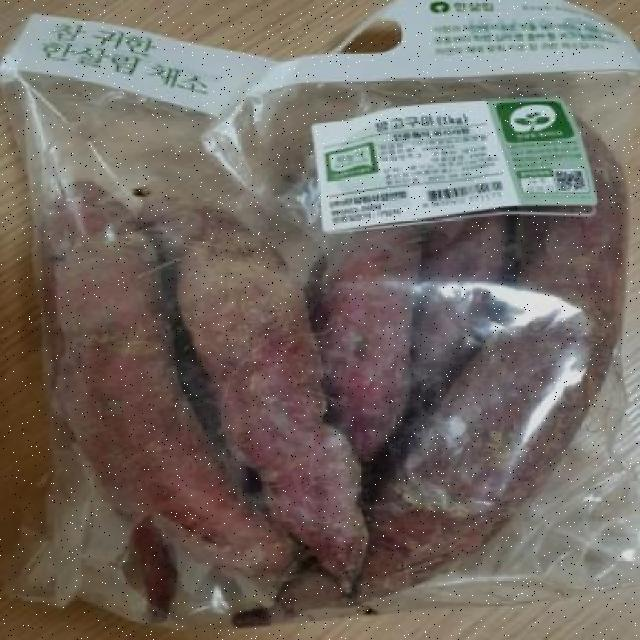Sweet Potato: (0, 0, 638, 638)
